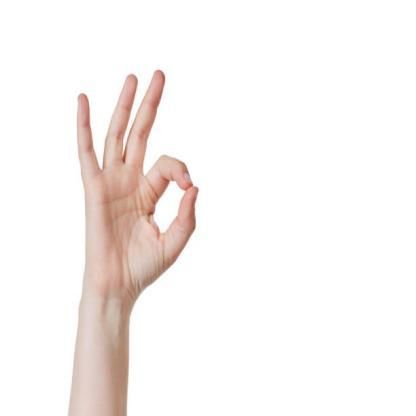ok: (70, 61, 200, 294)
